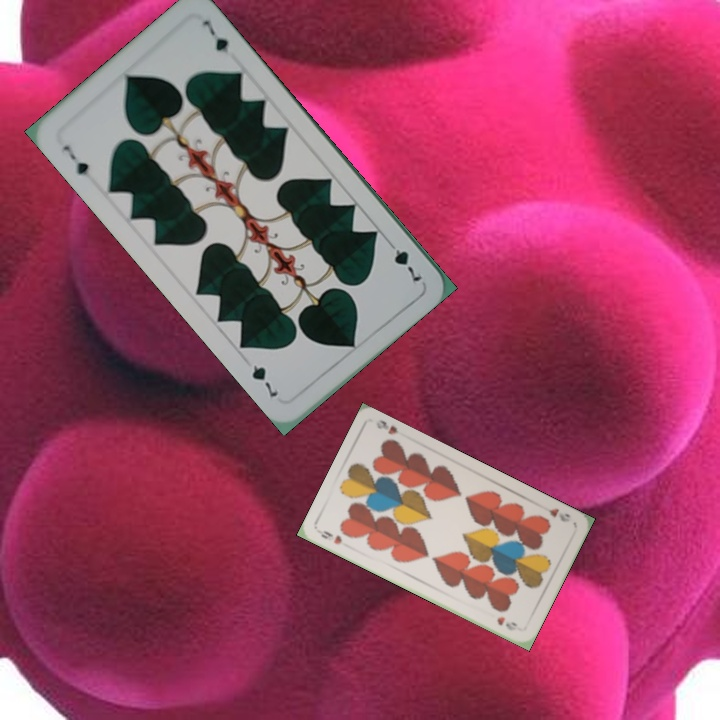G7: (382, 235, 425, 284), (58, 141, 92, 178)
H9: (537, 501, 572, 525), (314, 526, 345, 547)
